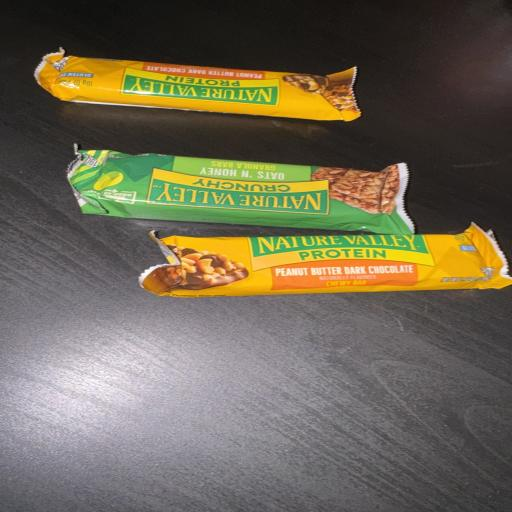granola: (68, 150, 413, 234), (140, 224, 511, 297), (35, 49, 360, 120)
